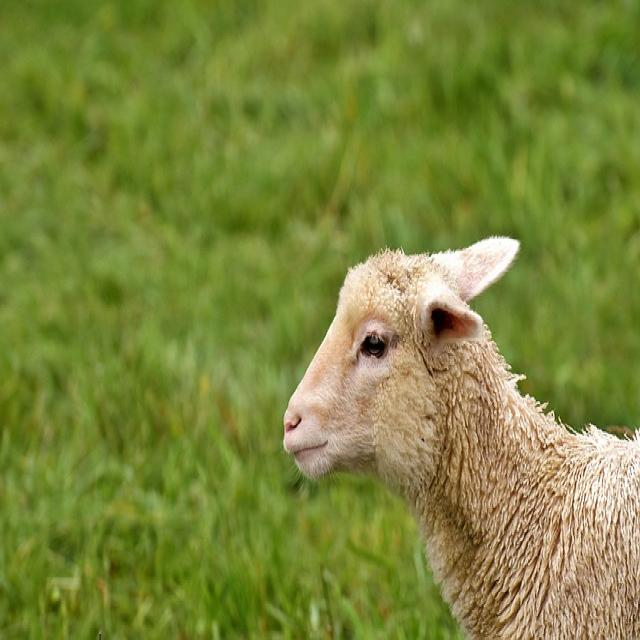goat: (282, 236, 640, 640)
